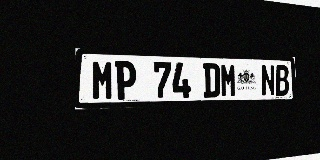4: (172, 62, 191, 98)
7: (152, 62, 172, 99)
B: (275, 65, 289, 96)
D: (203, 63, 220, 98)
M: (91, 60, 114, 100), (220, 63, 237, 97)
N: (261, 65, 275, 96)
P: (115, 61, 136, 100)
